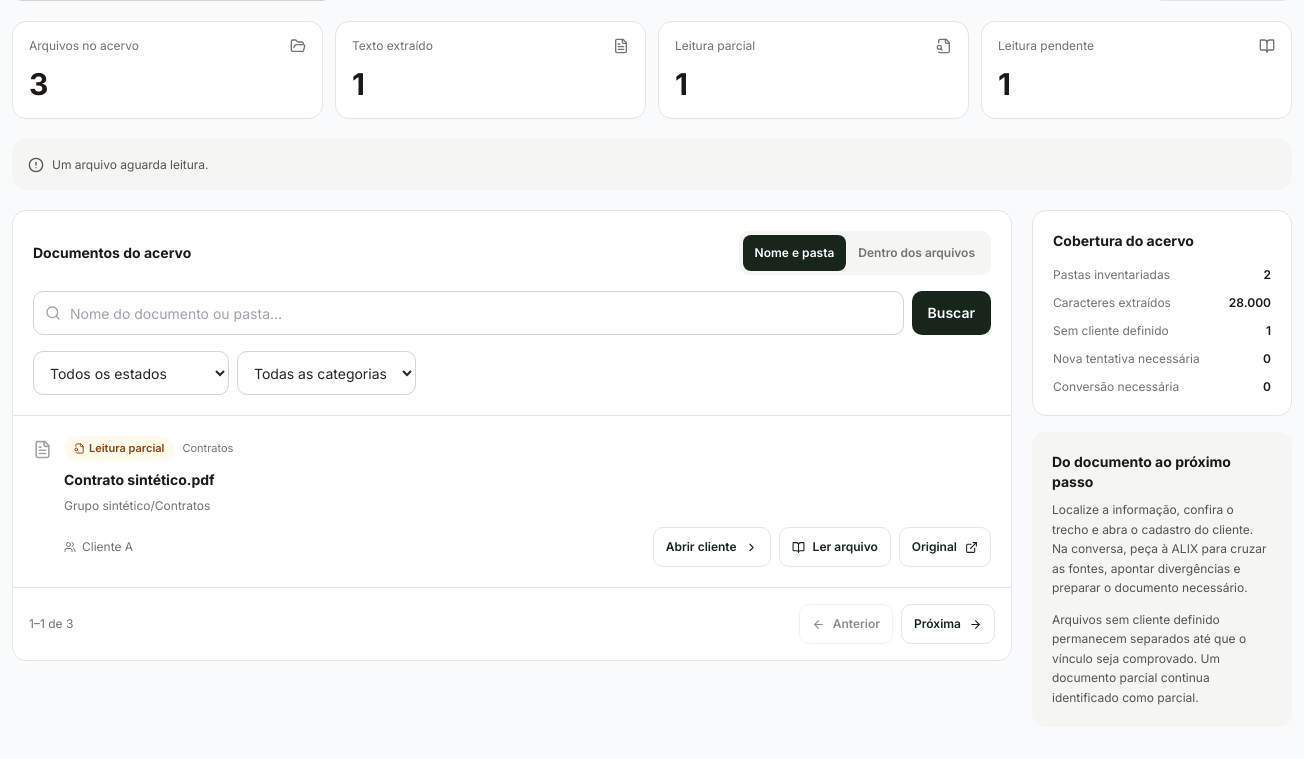
Test: Drive e dados na ALIX › próxima página preserva todos os filtros e não dispara efeito de escrita
(page scrolled)
Click the button "Próxima": (948, 624) [901, 604, 995, 644]
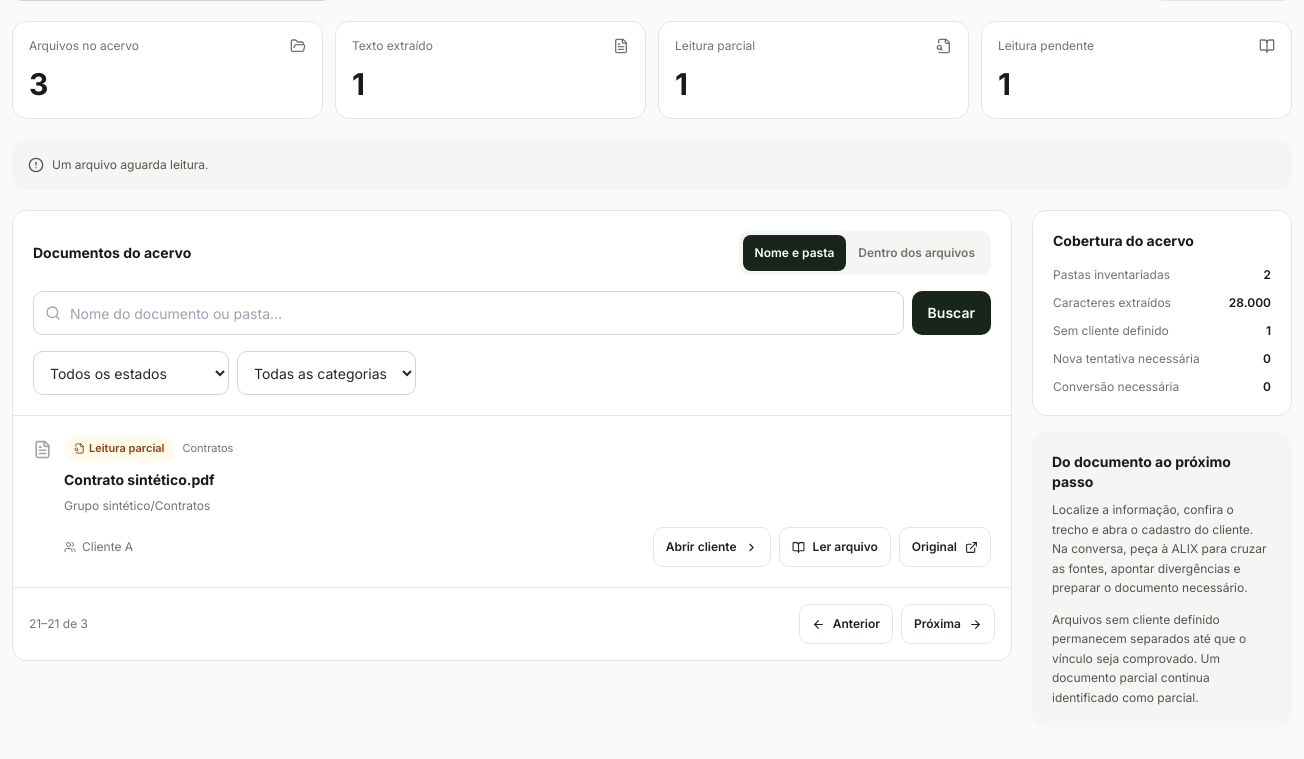
Check: the button "Anterior" is enabled, box [799, 604, 893, 644]
